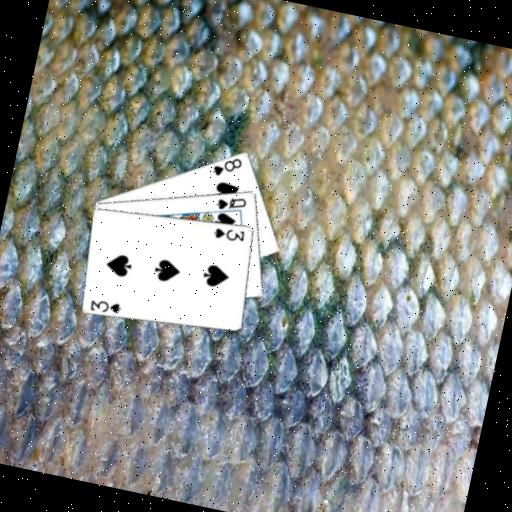3S: (210, 221, 248, 244), (86, 294, 124, 317)
8S: (208, 150, 245, 182)
QS: (212, 189, 249, 216)
